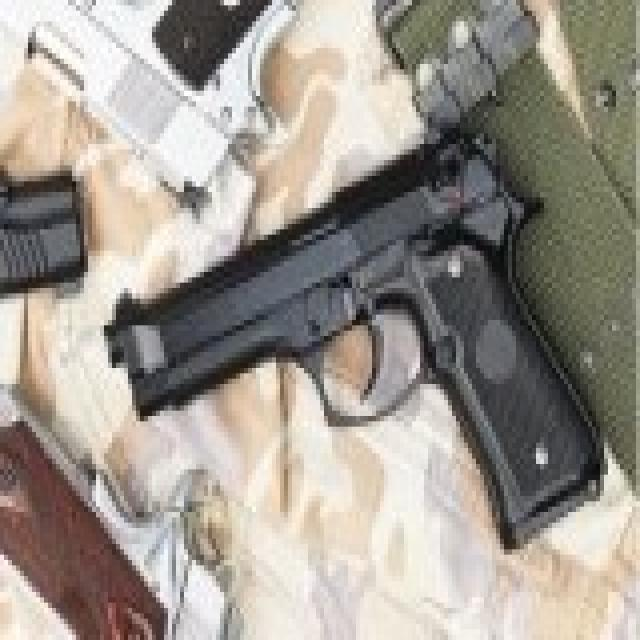Gun: (106, 121, 614, 545)
